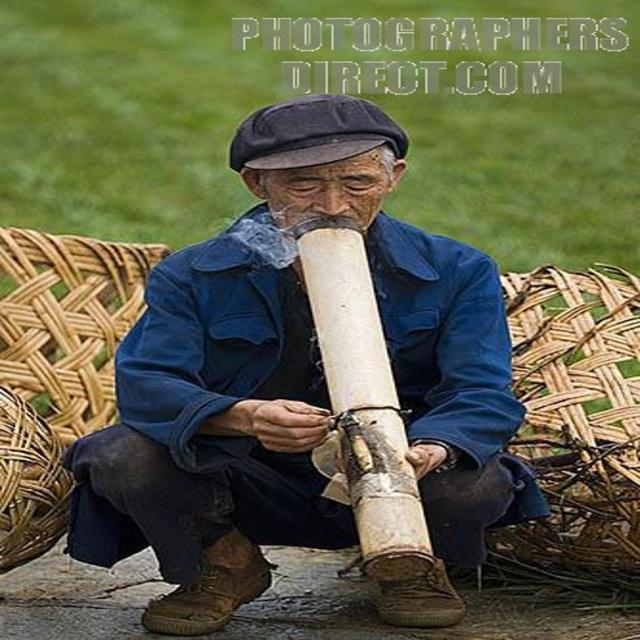nomask: (275, 135, 384, 235)
